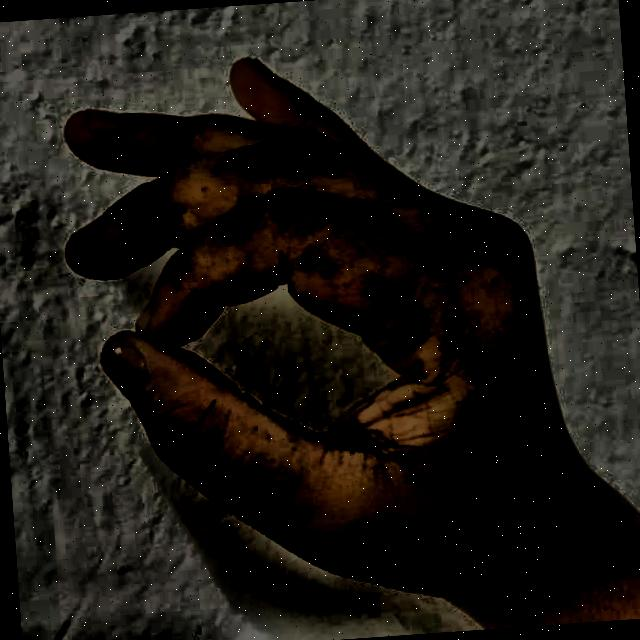Yo: (24, 14, 614, 640)
